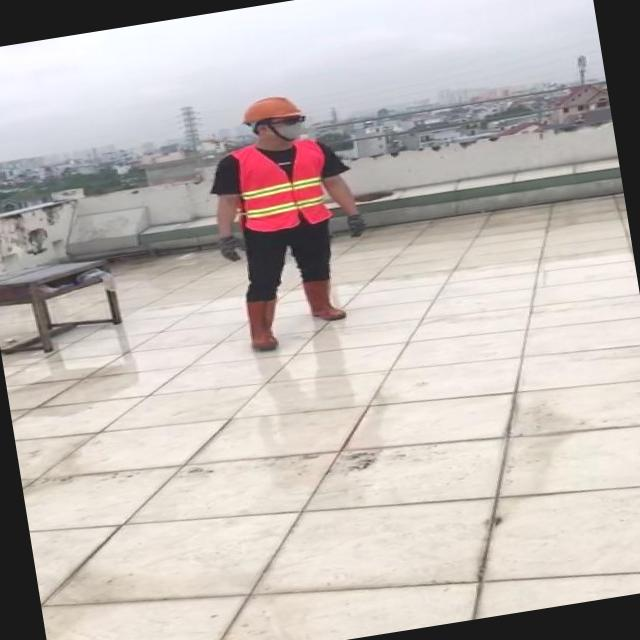boots: (243, 296, 289, 354), (303, 276, 345, 322)
helmet: (236, 90, 306, 126)
vest: (230, 136, 336, 234)
